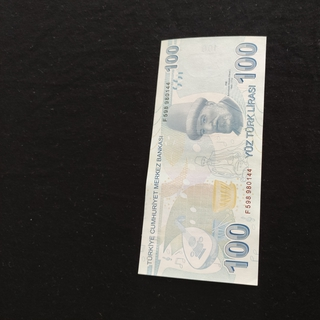100TLBack: (137, 35, 267, 286)
